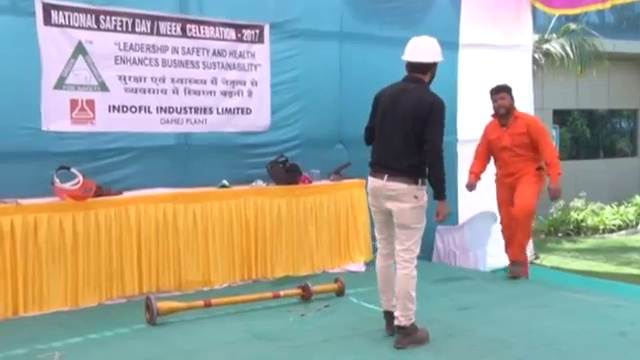helmet: (399, 34, 446, 64)
helmet_off: (487, 84, 518, 119)
helmet_on: (399, 34, 446, 86)
person: (363, 35, 449, 348), (462, 84, 562, 278)
